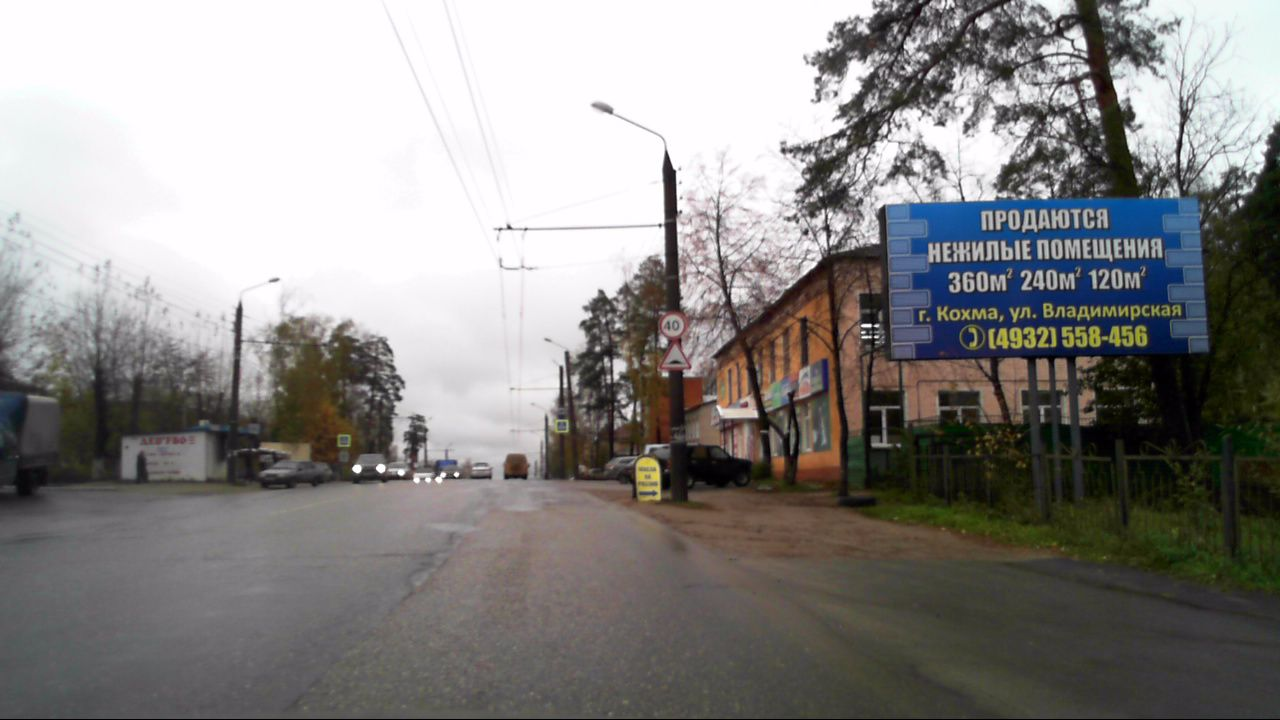speed_warning_40: (658, 310, 688, 339)
